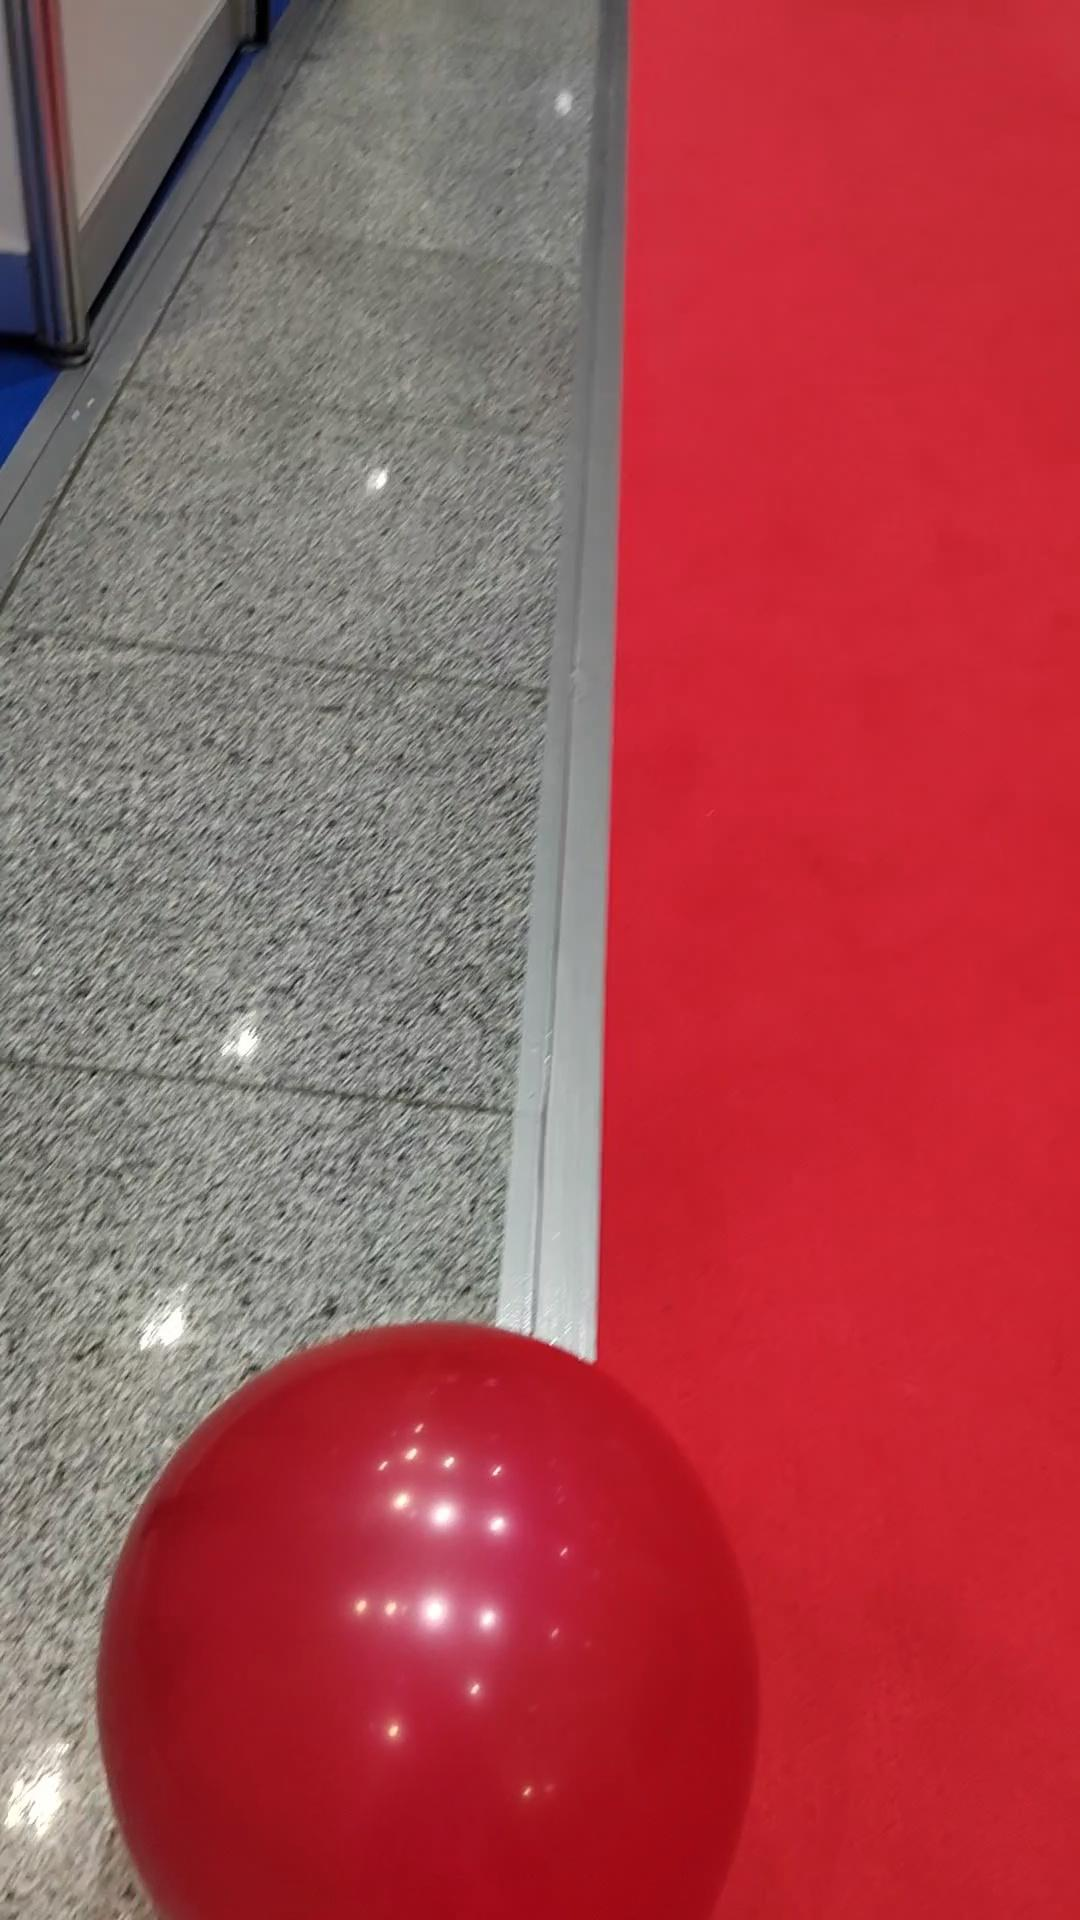red: (82, 1313, 774, 1920)
